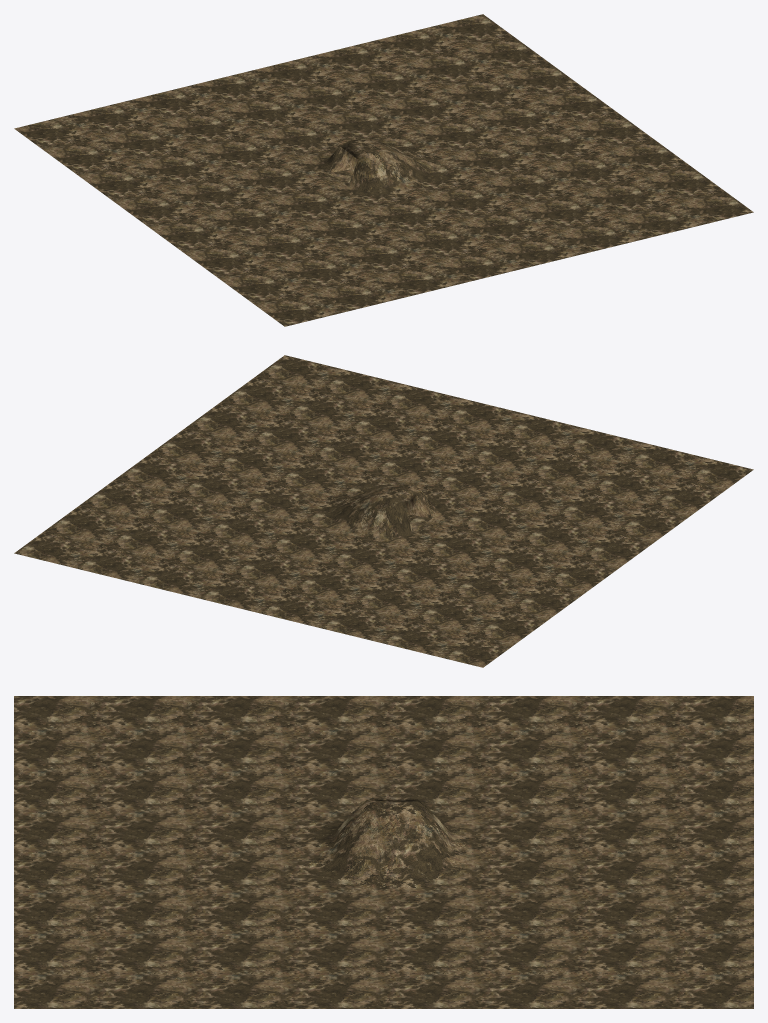
Rendered from two_levels.dae.
The picture shows the model from 3 angles, top to bottom: view 1: azimuth 30°, elevation 25°; view 2: azimuth 150°, elevation 25°; view 3: azimuth 270°, elevation 25°; orthographic projection. The views are drawn at different scales.
Parts seen in each view (by area): view 1: Terrain; view 2: Terrain; view 3: Terrain.
Part boxes in pixels (bbox=[...]): Terrain: bbox=[14, 14, 753, 326]; Terrain: bbox=[14, 355, 753, 667]; Terrain: bbox=[14, 696, 753, 1008].
Size of the model in its own units: 160 by 160 by 11.28.
1 material, 1 textured.
